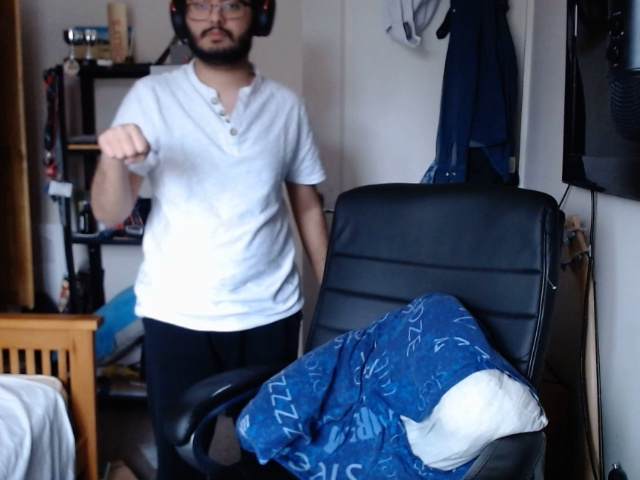Yes: (84, 115, 160, 167)
